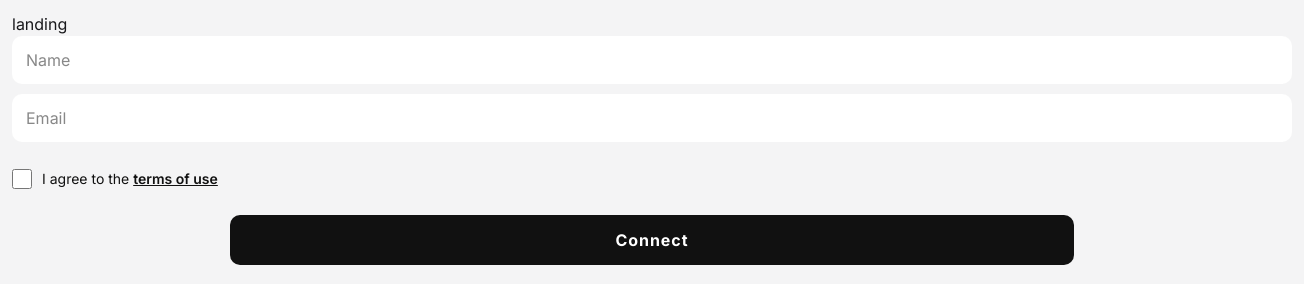
Test: Form edit-mode Connect › with valid inputs and terms ticked, shows Connected
Type "Sam" into the field labelled "Name" at (652, 60), box [12,36,1292,84]
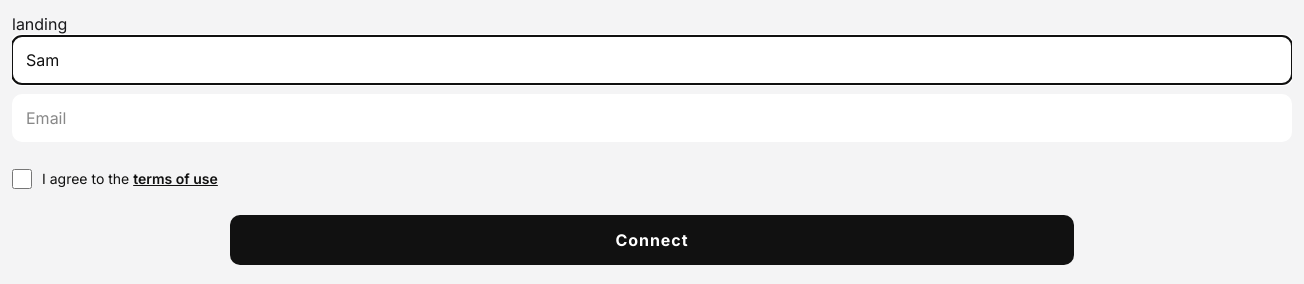
Type "sam@example.com" into the field labelled "Email" at (652, 118), box [12,94,1292,142]
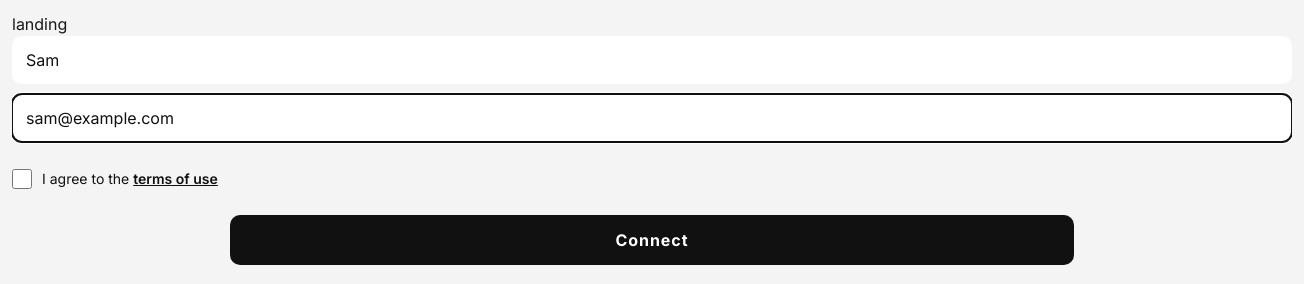
Click the checkbox at (22, 178), box [12,168,32,188]
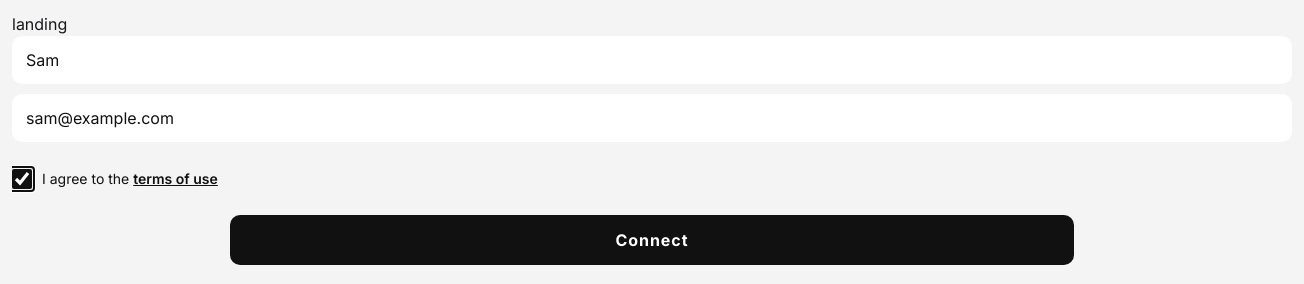
Click the button "Connect" at (652, 240), box [230,215,1074,265]
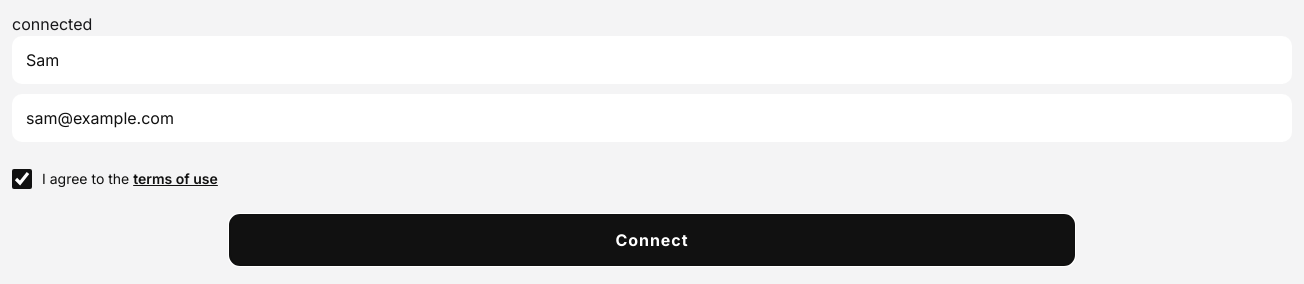
Result: the text with test id "screen" reads "connected" at [12,14,92,34]
